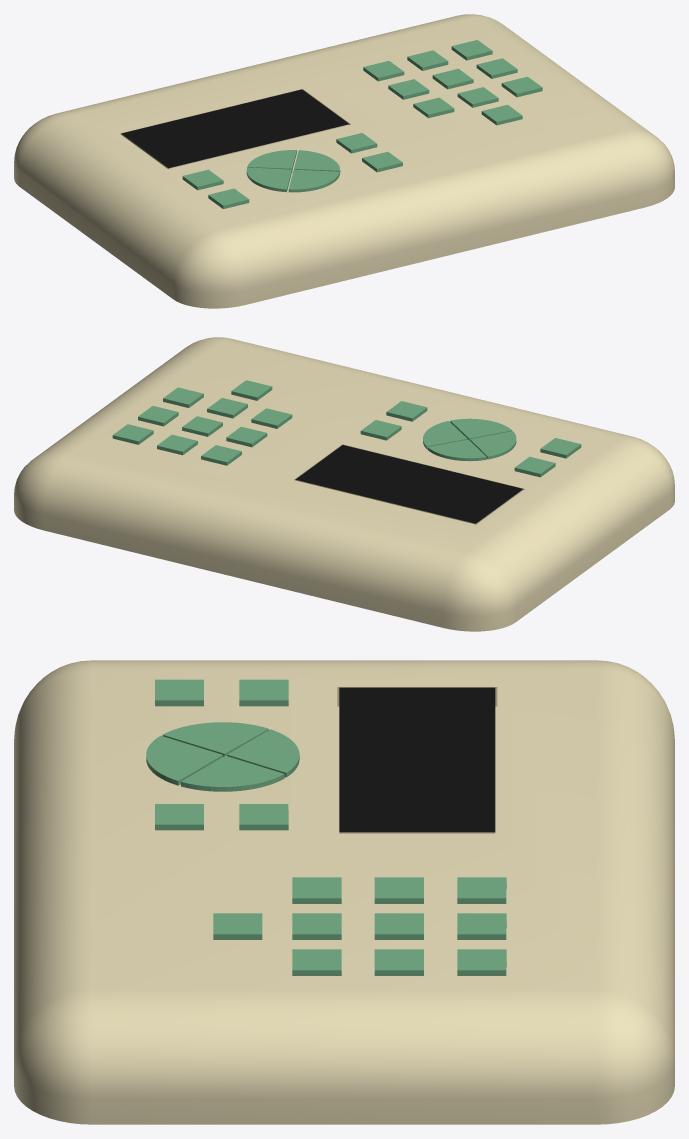
The picture shows the model from 3 angles, top to bottom: view 1: azimuth 30°, elevation 25°; view 2: azimuth 150°, elevation 25°; view 3: azimuth 270°, elevation 25°; orthographic projection. The views are drawn at different scales.
Parts seen in each view (by area): view 1: Alarm keypad, Button.001, Button; view 2: Alarm keypad, Button.001, Button; view 3: Alarm keypad, Button, Button.001.
Part boxes in pixels (left/top/right/bottom): Alarm keypad: left=14, top=14, right=674, bottom=308; Button.001: left=363, top=40, right=542, bottom=125; Button: left=182, top=133, right=402, bottom=208; Alarm keypad: left=14, top=337, right=674, bottom=631; Button.001: left=112, top=380, right=292, bottom=465; Button: left=360, top=401, right=581, bottom=477; Alarm keypad: left=14, top=660, right=674, bottom=1124; Button: left=146, top=679, right=299, bottom=830; Button.001: left=213, top=877, right=506, bottom=975.
Size of the model in its own units: 0.176 by 0.0213 by 0.1237.
